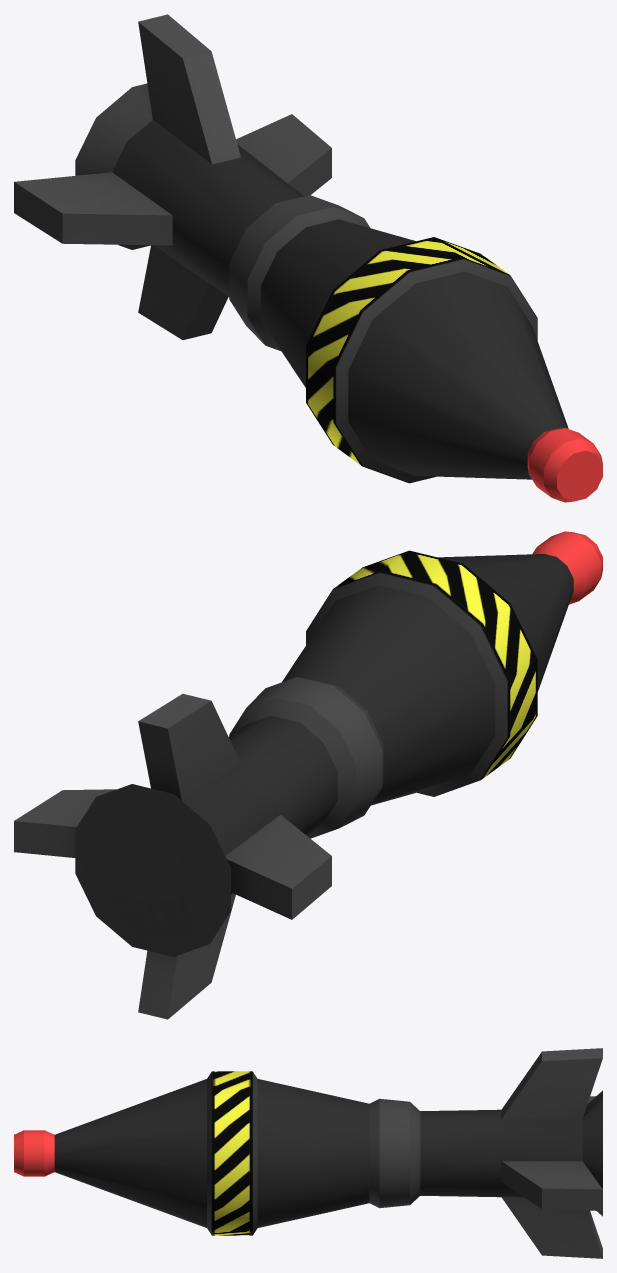
File: rocket_launcher_projectile_low.fbx
3 renders of one model, top to bottom at view 1: azimuth 30°, elevation 25°; view 2: azimuth 150°, elevation 25°; view 3: azimuth 270°, elevation 25°, orthographic. The views are drawn at different scales.
Visible parts, largest first — view 1: rocket_launcher_projectile_low; view 2: rocket_launcher_projectile_low; view 3: rocket_launcher_projectile_low.
Part boxes in pixels (box(x1,y1,x2,y2)): rocket_launcher_projectile_low: box(14, 14, 602, 502); rocket_launcher_projectile_low: box(14, 531, 602, 1019); rocket_launcher_projectile_low: box(14, 1048, 602, 1258).
Size of the model in its own units: 27.26 by 27.26 by 72.5.
